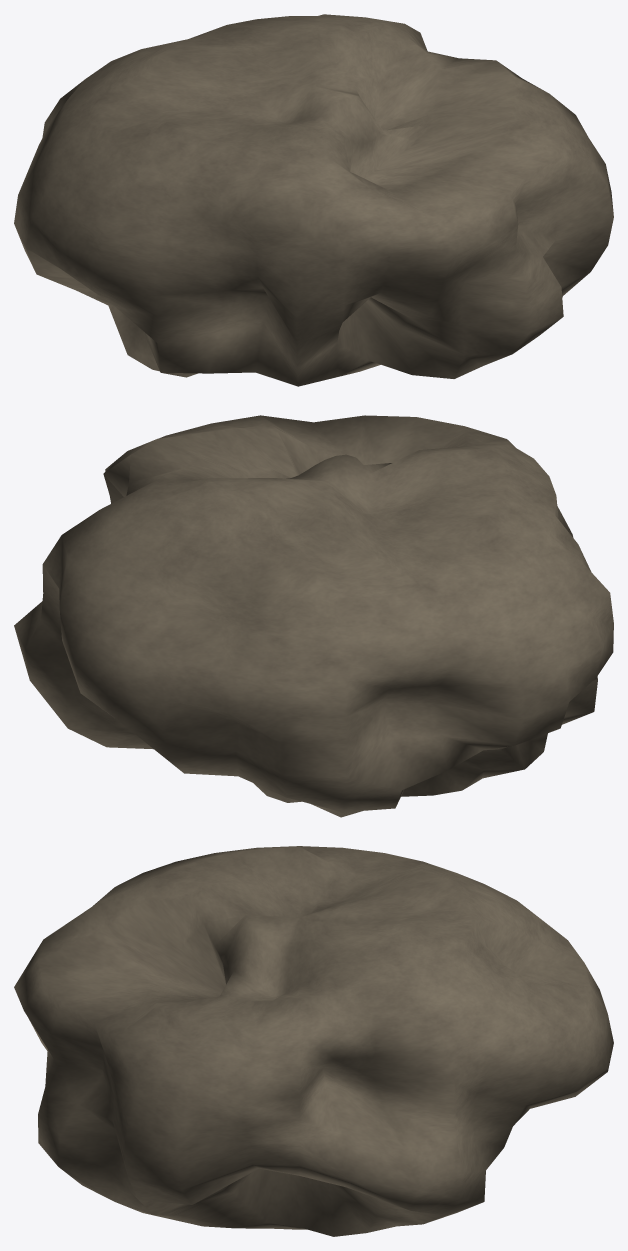
Rendered from RockMedium.fbx.
The picture shows the model from 3 angles, top to bottom: view 1: azimuth 30°, elevation 25°; view 2: azimuth 150°, elevation 25°; view 3: azimuth 270°, elevation 25°; orthographic projection. The views are drawn at different scales.
Parts seen in each view (by area): view 1: Sphere.002; view 2: Sphere.002; view 3: Sphere.002.
Part boxes in pixels (x1,y1,x2,y2): Sphere.002: [14, 14, 613, 386]; Sphere.002: [14, 415, 613, 817]; Sphere.002: [14, 846, 613, 1236].
Bounding box in the file's own units: 234 × 125 × 239.
